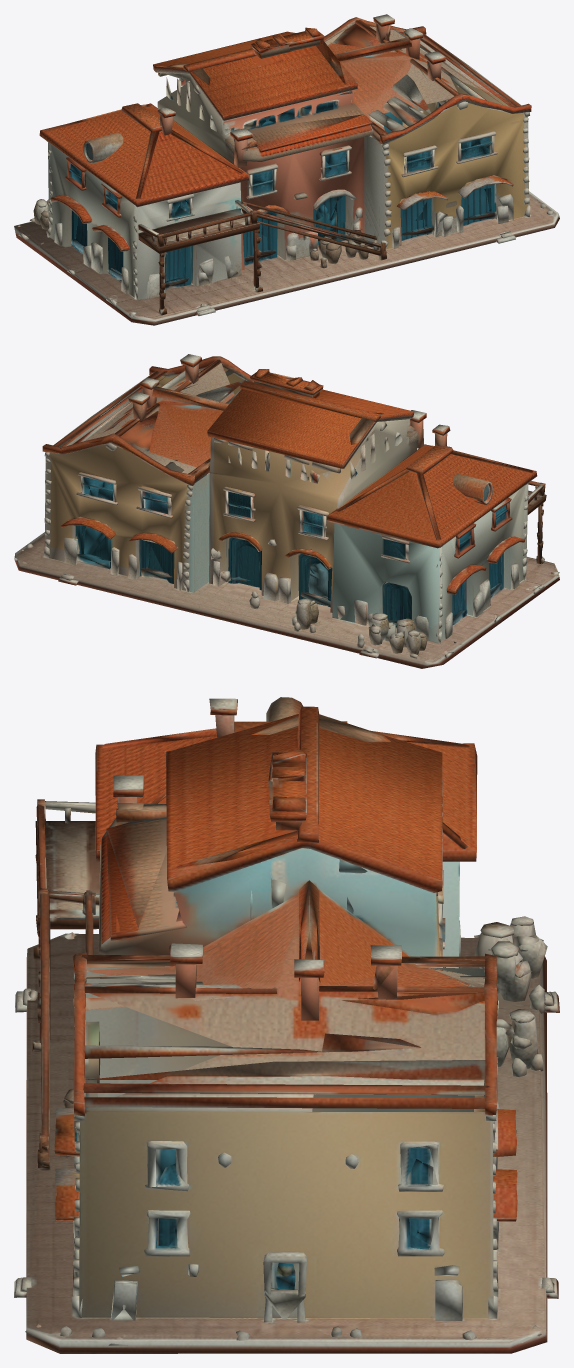
Rendered from harbour-rooftops.glb.
3 views of the same model, one above another, from view 1: azimuth 30°, elevation 25°; view 2: azimuth 150°, elevation 25°; view 3: azimuth 270°, elevation 25° (orthographic). The views are drawn at different scales.
Visible parts, largest first — view 1: harbour-rooftops; view 2: harbour-rooftops; view 3: harbour-rooftops.
Boxes of the visible parts, x1=… form: harbour-rooftops: x1=14, y1=14, x2=559, y2=325; harbour-rooftops: x1=14, y1=354, x2=559, y2=668; harbour-rooftops: x1=14, y1=697, x2=559, y2=1353.
Bounding box in the file's own units: 1 × 0.4323 × 0.5669.
Materials: 1 (1 with a texture image).
